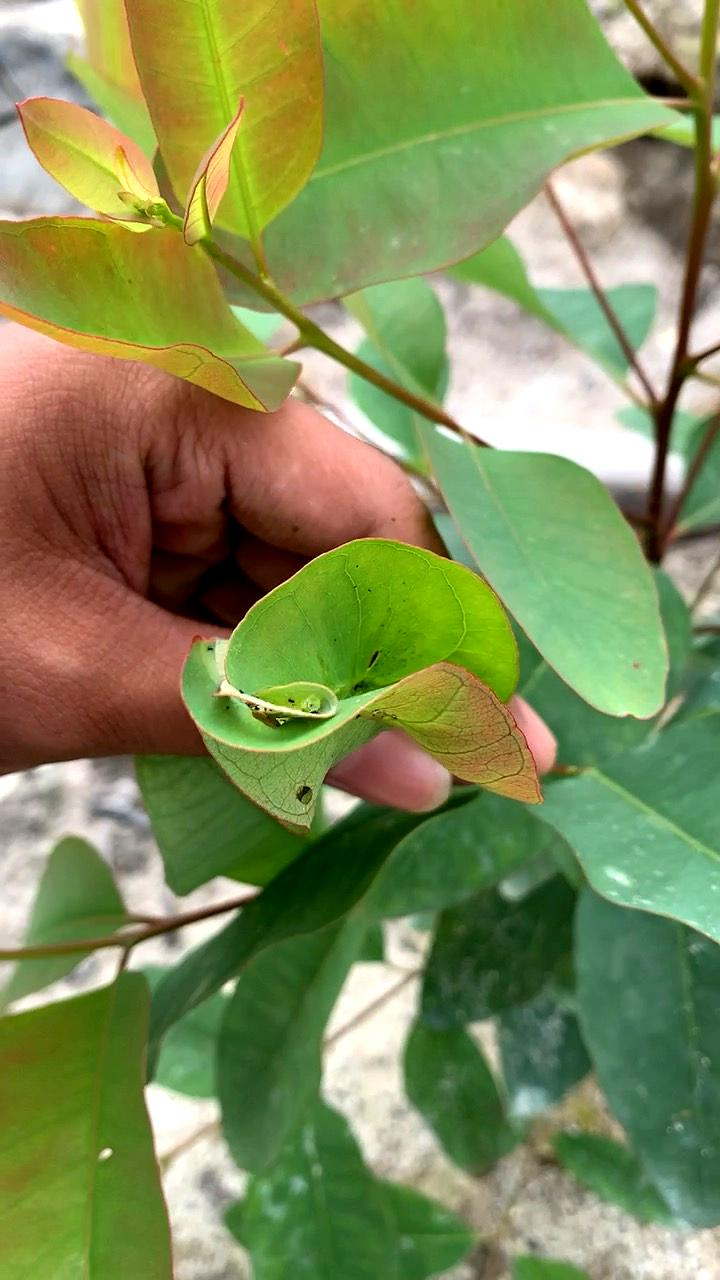Leaf Roller - Leaf: (183, 543, 560, 864)
